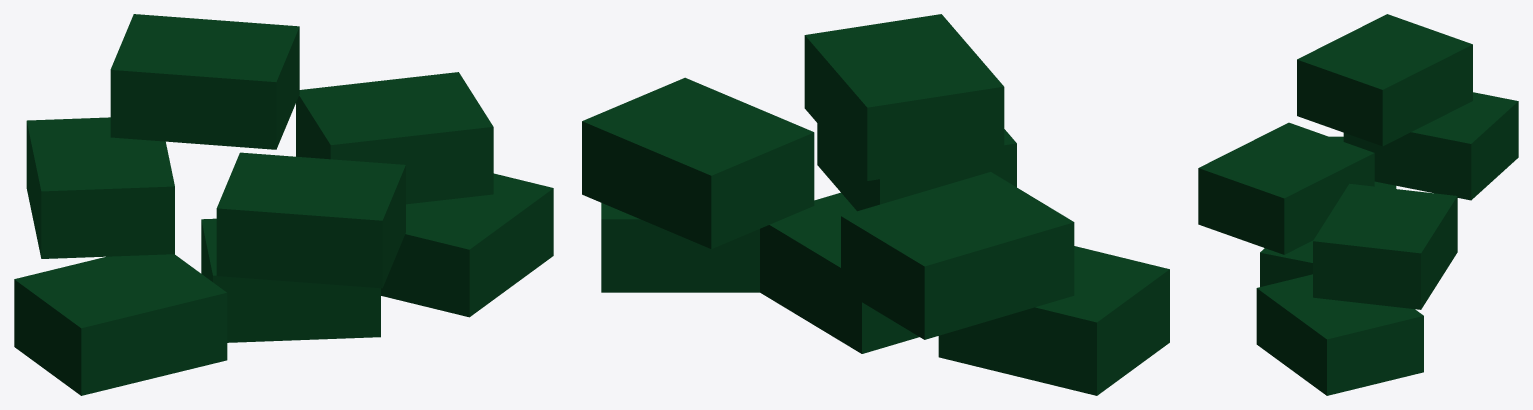
The model's file is moni.FBX.
3 views of the same model, side by side, from view 1: azimuth 30°, elevation 25°; view 2: azimuth 150°, elevation 25°; view 3: azimuth 270°, elevation 25° (orthographic). The views are drawn at different scales.
Visible parts, largest first — view 1: Box002, Box006, Box008, Box007, Box005, Box004, Box003; view 2: Box005, Box007, Box008, Box002, Box003, Box004, Box006; view 3: Box008, Box006, Box007, Box004, Box005, Box003.
Part boxes in pixels (bbox=[...]): Box002: bbox=[14, 254, 227, 395]; Box006: bbox=[216, 152, 405, 288]; Box008: bbox=[110, 14, 299, 149]; Box007: bbox=[296, 72, 493, 204]; Box005: bbox=[26, 117, 174, 258]; Box004: bbox=[381, 173, 553, 317]; Box003: bbox=[201, 218, 380, 342]; Box005: bbox=[841, 172, 1074, 339]; Box007: bbox=[582, 77, 814, 248]; Box008: bbox=[804, 14, 1004, 180]; Box002: bbox=[938, 246, 1169, 395]; Box003: bbox=[760, 192, 919, 353]; Box004: bbox=[601, 203, 783, 292]; Box006: bbox=[817, 123, 1016, 211]; Box008: bbox=[1297, 14, 1472, 146]; Box006: bbox=[1198, 122, 1374, 254]; Box007: bbox=[1313, 183, 1457, 309]; Box004: bbox=[1256, 274, 1423, 395]; Box005: bbox=[1343, 92, 1518, 200]; Box003: bbox=[1260, 240, 1312, 286].
Size of the model in its own units: 7.85 by 3.9 by 5.23.
